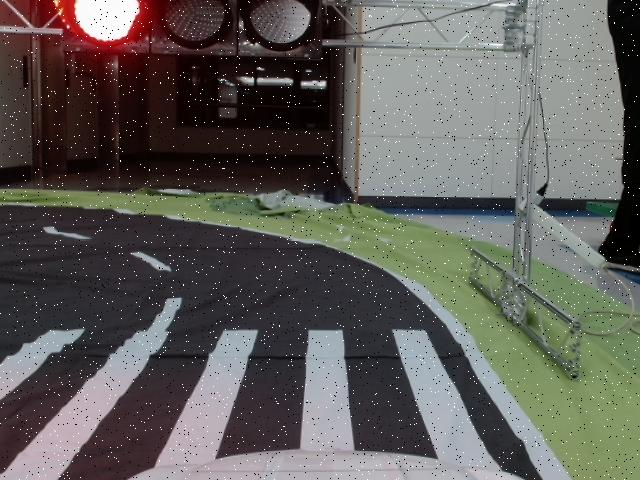crosswalk: (0, 327, 504, 480)
traffic light-red-: (57, 0, 321, 60)
